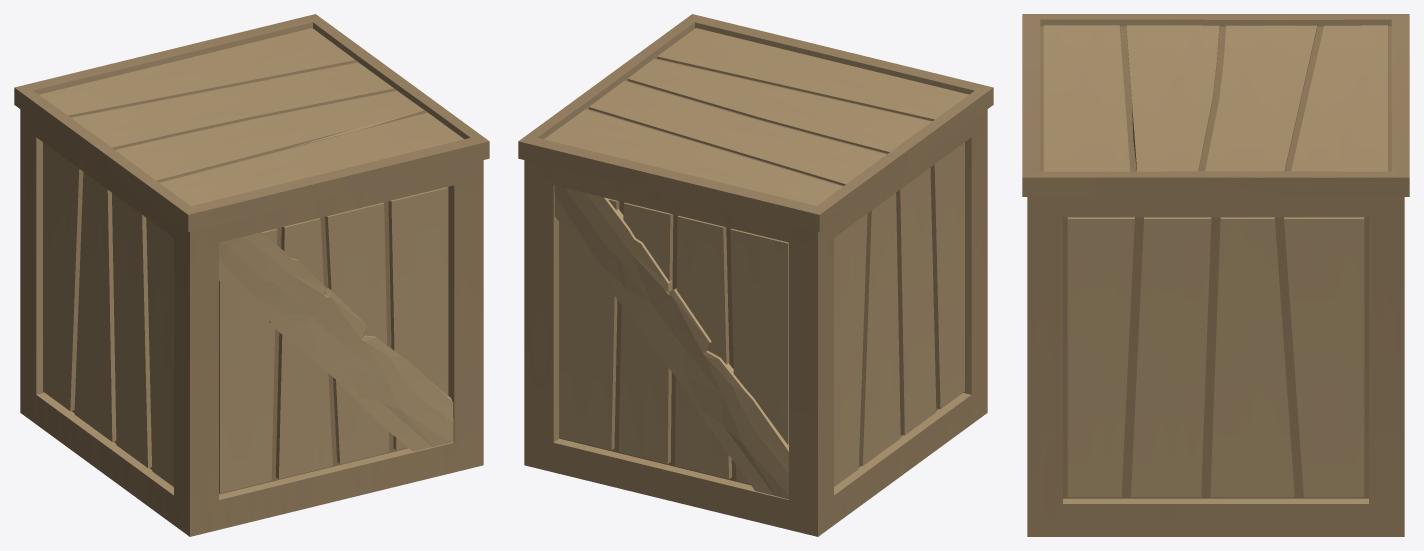
3 views of the same model, side by side, from view 1: azimuth 30°, elevation 25°; view 2: azimuth 150°, elevation 25°; view 3: azimuth 270°, elevation 25° (orthographic). The views are drawn at different scales.
Visible parts, largest first — view 1: box, plank_2; view 2: box, plank_1; view 3: box.
Boxes of the visible parts, <box> form: box: <box>14,14,489,536</box>; plank_2: <box>219,232,453,451</box>; box: <box>518,14,993,536</box>; plank_1: <box>554,185,788,499</box>; box: <box>1022,14,1409,536</box>.
Size of the model in its own units: 1.13 by 1.13 by 1.16.
